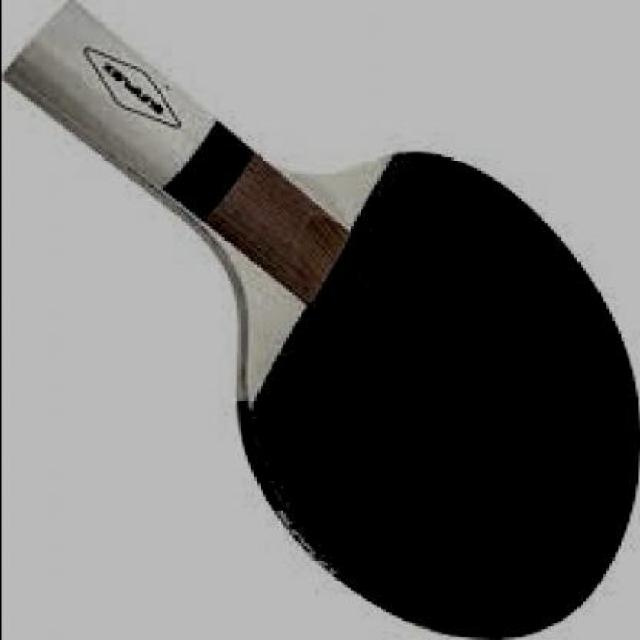table_tennis_racket: (5, 0, 640, 640)
